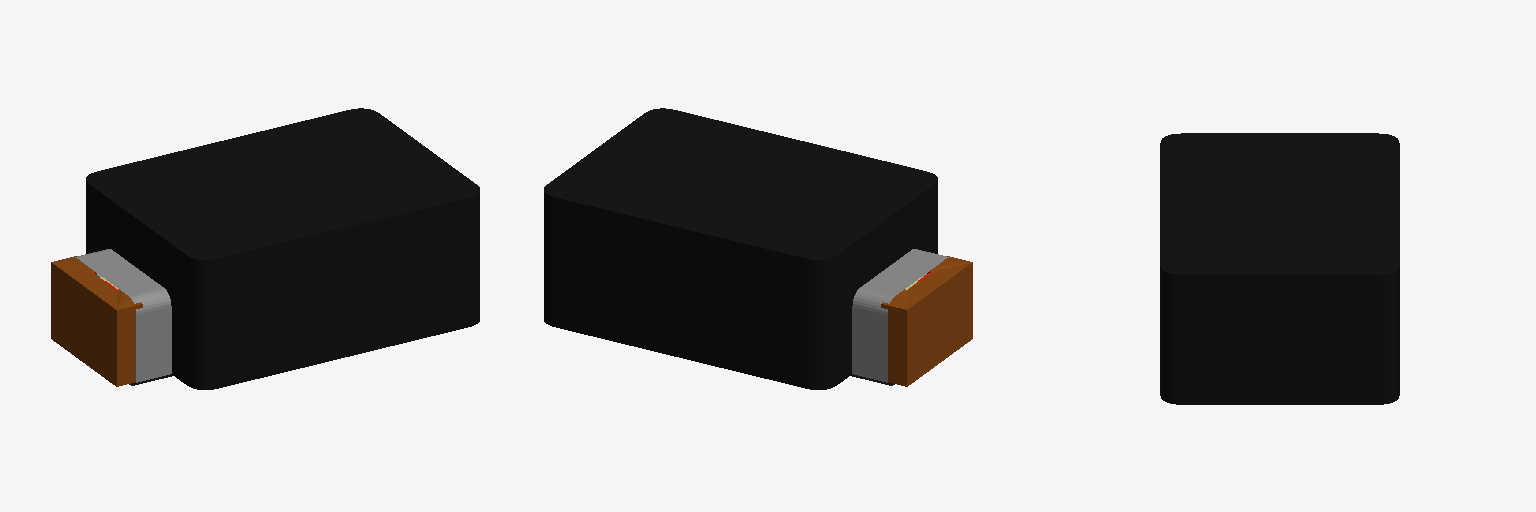
The model's file is holodeck.obj.
The picture shows the model from 3 angles: view 1: azimuth 30°, elevation 25°; view 2: azimuth 150°, elevation 25°; view 3: azimuth 270°, elevation 25°; orthographic projection.
Visible parts, largest first — view 1: g holodeckroom_holodeckwirefrane, g holodeck_door, g holodeckdoorrecess; view 2: g holodeckroom_holodeckwirefrane, g holodeck_door, g holodeckdoorrecess; view 3: g holodeckroom_holodeckwirefrane.
Boxes of the visible parts, x1=… form: g holodeckroom_holodeckwirefrane: x1=86, y1=108, x2=479, y2=389; g holodeck_door: x1=51, y1=256, x2=142, y2=386; g holodeckdoorrecess: x1=73, y1=249, x2=171, y2=382; g holodeckroom_holodeckwirefrane: x1=544, y1=108, x2=937, y2=389; g holodeck_door: x1=881, y1=256, x2=972, y2=386; g holodeckdoorrecess: x1=852, y1=249, x2=950, y2=382; g holodeckroom_holodeckwirefrane: x1=1160, y1=133, x2=1399, y2=404.
Size of the model in its own units: 831 by 300 by 500.